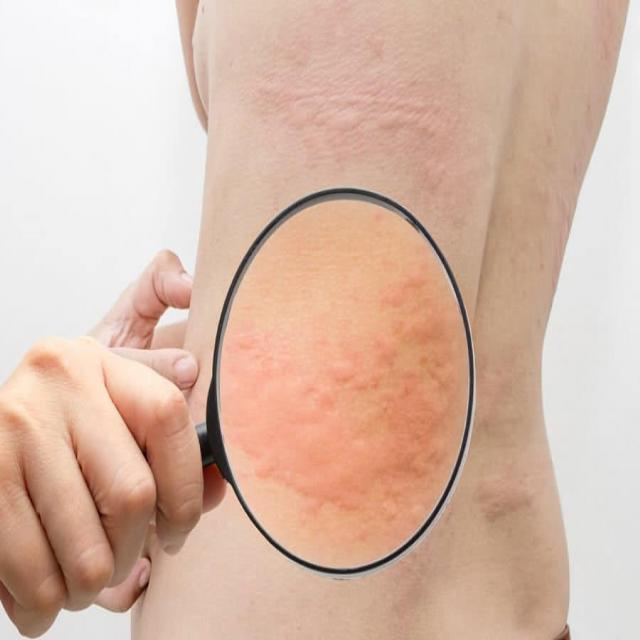hives: (220, 249, 466, 561), (252, 24, 478, 183), (464, 338, 557, 542)
